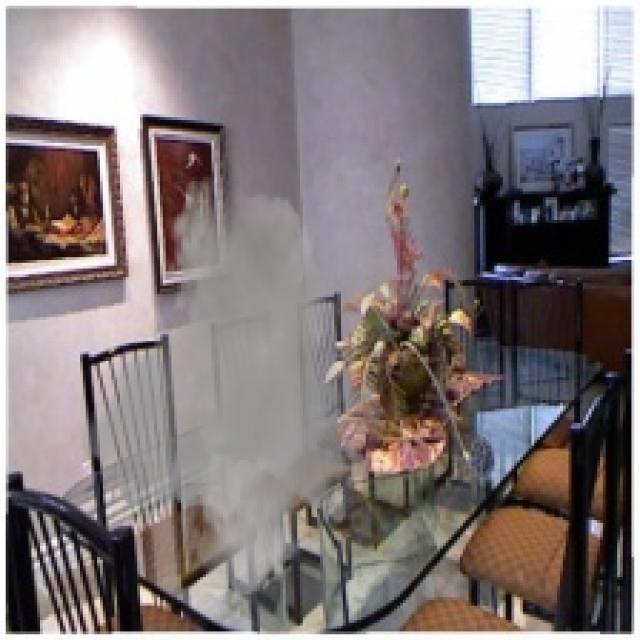Smoke: (69, 174, 448, 597)
